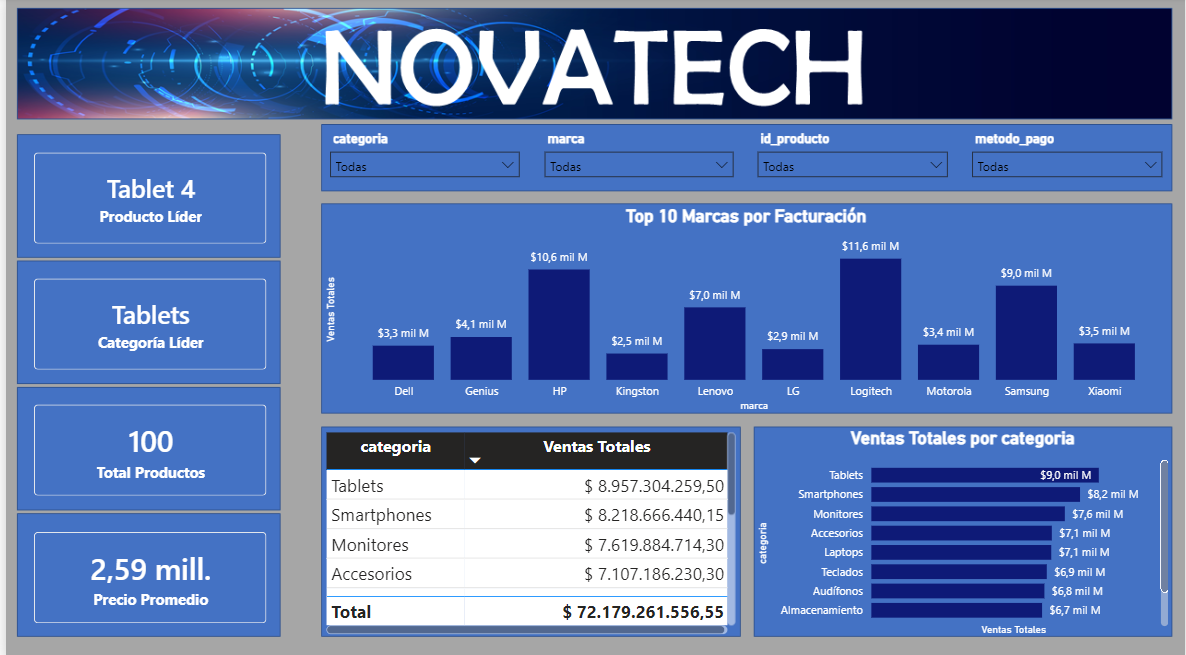

Layout of this report page (visuals, bound fields, positions):
{"tool":"powerbi","page":{"name":"Análisis de Productos","canvas":[1280,720],"ordinal":2},"visuals":[{"type":"tableEx","fields":{"Values":["productos.categoria","Medidas.Ventas Totales"]},"box":[341.9,467.5,454.4,228.8],"z":0},{"type":"clusteredColumnChart","title":"Top 10 Marcas por Facturación","fields":{"Category":["productos.marca"],"Y":["Medidas.Ventas Totales"]},"box":[341.6,226.1,922.3,227.7],"z":1000},{"type":"clusteredBarChart","fields":{"Category":["productos.categoria"],"Y":["Medidas.Ventas Totales"]},"box":[810.5,467.5,455,229],"z":2000},{"type":"slicer","fields":{"Values":["productos.categoria"]},"box":[342,140,225,70],"z":3000},{"type":"slicer","fields":{"Values":["productos.marca"]},"box":[573.7,139.9,224.5,69.9],"z":4000},{"type":"slicer","fields":{"Values":["productos.id_producto"]},"box":[804.9,139.9,226.1,69.9],"z":5000},{"type":"cardVisual","fields":{"Data":["Medidas.Producto Líder"]},"box":[12.4,150.6,286.1,133],"z":6000},{"type":"cardVisual","fields":{"Data":["Medidas.Categoría Líder"]},"box":[12.4,287.7,286,133.2],"z":7000},{"type":"cardVisual","fields":{"Data":["productos.Total Productos"]},"box":[12.4,424.9,286,133],"z":8000},{"type":"cardVisual","fields":{"Data":["Medidas.Precio Promedio"]},"box":[12.4,562,286,133],"z":9000},{"type":"slicer","fields":{"Values":["ventas.metodo_pago"]},"box":[1037.7,139.9,226.1,69.9],"z":9001}]}

Visuals, with their boxes in screenshot pixels (x1, y1, x2, y2), scaled from the page's 1280x720 canvas onto the 1186x655 screenshot:
tableEx - productos.categoria x Medidas.Ventas Totales: left=317, top=425, right=738, bottom=633
"Top 10 Marcas por Facturación" clusteredColumnChart: left=317, top=206, right=1171, bottom=413
clusteredBarChart - productos.categoria x Medidas.Ventas Totales: left=751, top=425, right=1173, bottom=634
slicer - productos.categoria: left=317, top=127, right=525, bottom=191
slicer - productos.marca: left=532, top=127, right=740, bottom=191
slicer - productos.id_producto: left=746, top=127, right=955, bottom=191
cardVisual - Medidas.Producto Líder: left=11, top=137, right=277, bottom=258
cardVisual - Medidas.Categoría Líder: left=11, top=262, right=276, bottom=383
cardVisual - productos.Total Productos: left=11, top=387, right=276, bottom=508
cardVisual - Medidas.Precio Promedio: left=11, top=511, right=276, bottom=632
slicer - ventas.metodo_pago: left=961, top=127, right=1171, bottom=191
